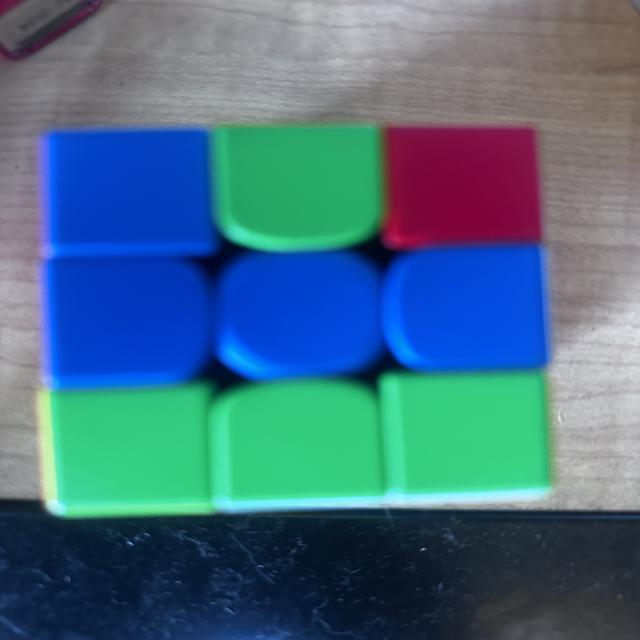sticker: (40, 381, 219, 523), (209, 378, 390, 515), (379, 371, 551, 507), (42, 128, 219, 260), (44, 255, 213, 390), (216, 250, 387, 381), (212, 124, 384, 253), (382, 247, 548, 374), (382, 126, 541, 252)
